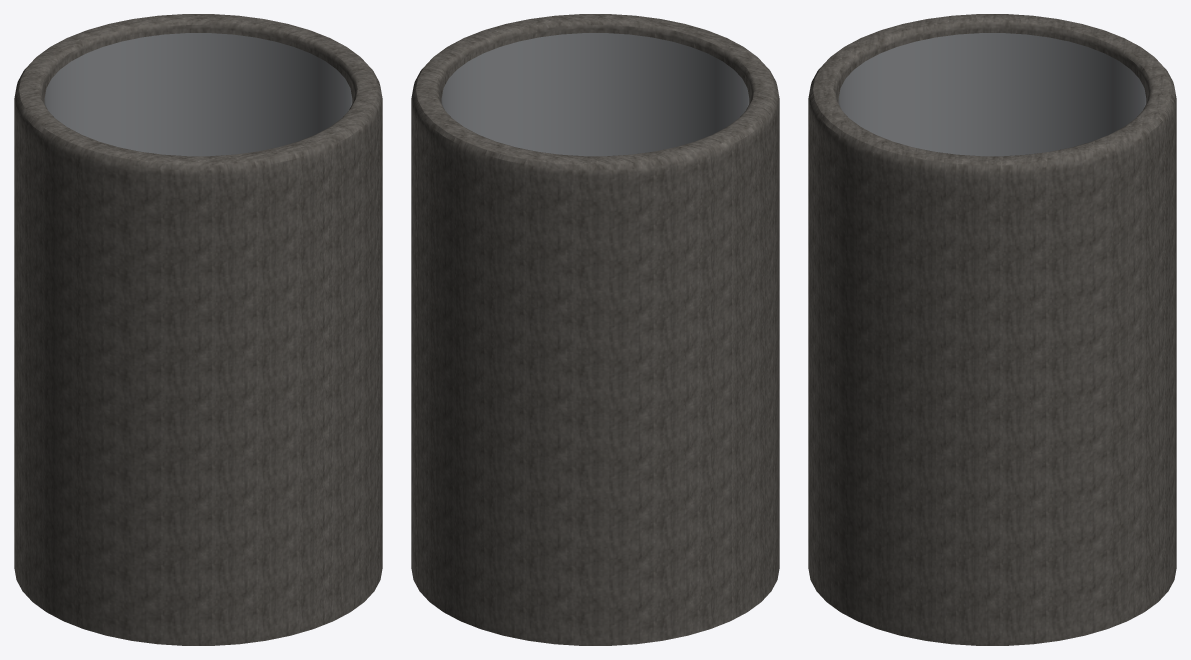
The model's file is rubbishBin.fbx.
3 views of the same model, side by side, from view 1: azimuth 30°, elevation 25°; view 2: azimuth 150°, elevation 25°; view 3: azimuth 270°, elevation 25° (orthographic).
Parts seen in each view (by area): view 1: RubbishBin; view 2: RubbishBin; view 3: RubbishBin.
Part boxes in pixels (bbox=[...]): RubbishBin: bbox=[14, 14, 382, 645]; RubbishBin: bbox=[411, 14, 779, 645]; RubbishBin: bbox=[808, 14, 1176, 645].
Bounding box in the file's own units: 327 × 472 × 328.
2 materials, 2 textured.
